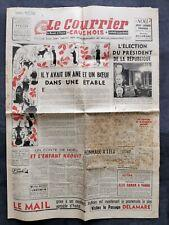paper: (7, 6, 159, 222)
